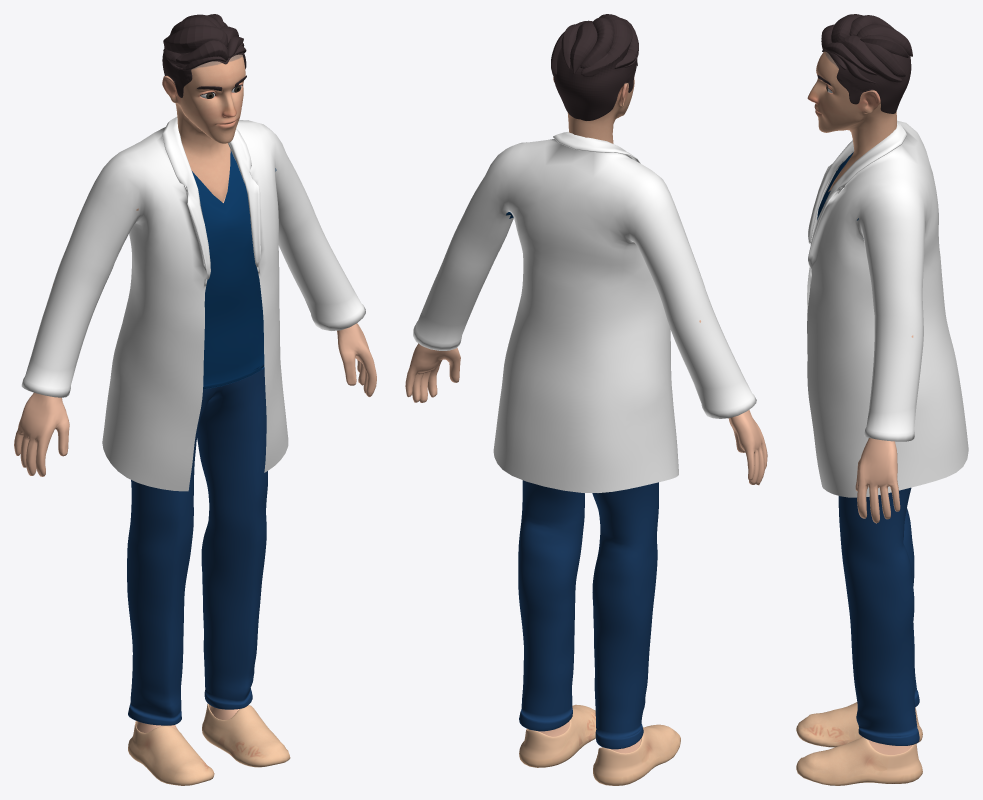
Rendered from Hombre.fbx.
The picture shows the model from 3 angles, left to right: view 1: azimuth 30°, elevation 25°; view 2: azimuth 150°, elevation 25°; view 3: azimuth 270°, elevation 25°; orthographic projection.
Visible parts, largest first — view 1: BATA_LOW.006, Pantalon_low, camisa_low.002, HEAD_low, Zapatos_low, Body_low, Cabeza_low; view 2: BATA_LOW.006, Pantalon_low, Cabeza_low, Zapatos_low, Body_low, HEAD_low; view 3: BATA_LOW.006, Pantalon_low, Zapatos_low, Cabeza_low, HEAD_low, Body_low.
Boxes of the visible parts, left/top/right/bottom form: BATA_LOW.006: left=21, top=117, right=365, bottom=491; Pantalon_low: left=127, top=367, right=267, bottom=725; camisa_low.002: left=192, top=150, right=276, bottom=389; HEAD_low: left=162, top=54, right=245, bottom=202; Zapatos_low: left=128, top=703, right=290, bottom=785; Body_low: left=14, top=197, right=376, bottom=732; Cabeza_low: left=162, top=14, right=246, bottom=97; BATA_LOW.006: left=413, top=132, right=756, bottom=492; Pantalon_low: left=518, top=480, right=658, bottom=749; Cabeza_low: left=551, top=14, right=638, bottom=120; Zapatos_low: left=519, top=704, right=680, bottom=785; Body_low: left=405, top=320, right=767, bottom=753; HEAD_low: left=553, top=76, right=634, bottom=143; BATA_LOW.006: left=807, top=120, right=968, bottom=497; Pantalon_low: left=838, top=487, right=919, bottom=745; Zapatos_low: left=796, top=702, right=922, bottom=785; Cabeza_low: left=821, top=14, right=912, bottom=113; HEAD_low: left=807, top=51, right=896, bottom=190; Body_low: left=828, top=166, right=913, bottom=754.
Size of the model in its own units: 428 by 870 by 184.
